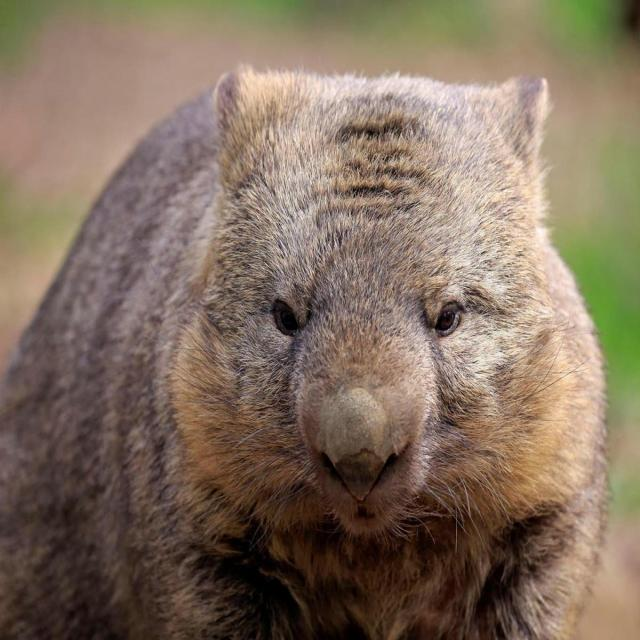wombats: (1, 68, 606, 639)
